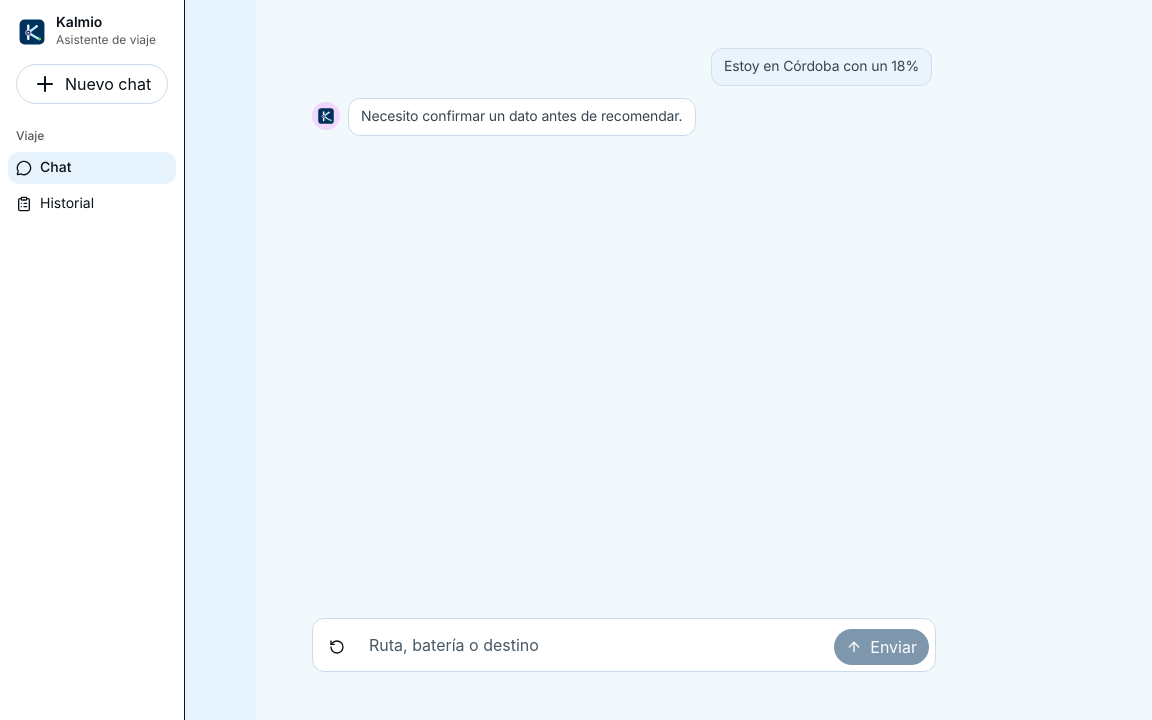
App › shows the right loader copy for respuesta rápida after 2000 ms
The width and height of the screenshot is (1152, 720).
Click the link with aria-label "Chat" at coordinates (86, 31), box [16,14,156,48]
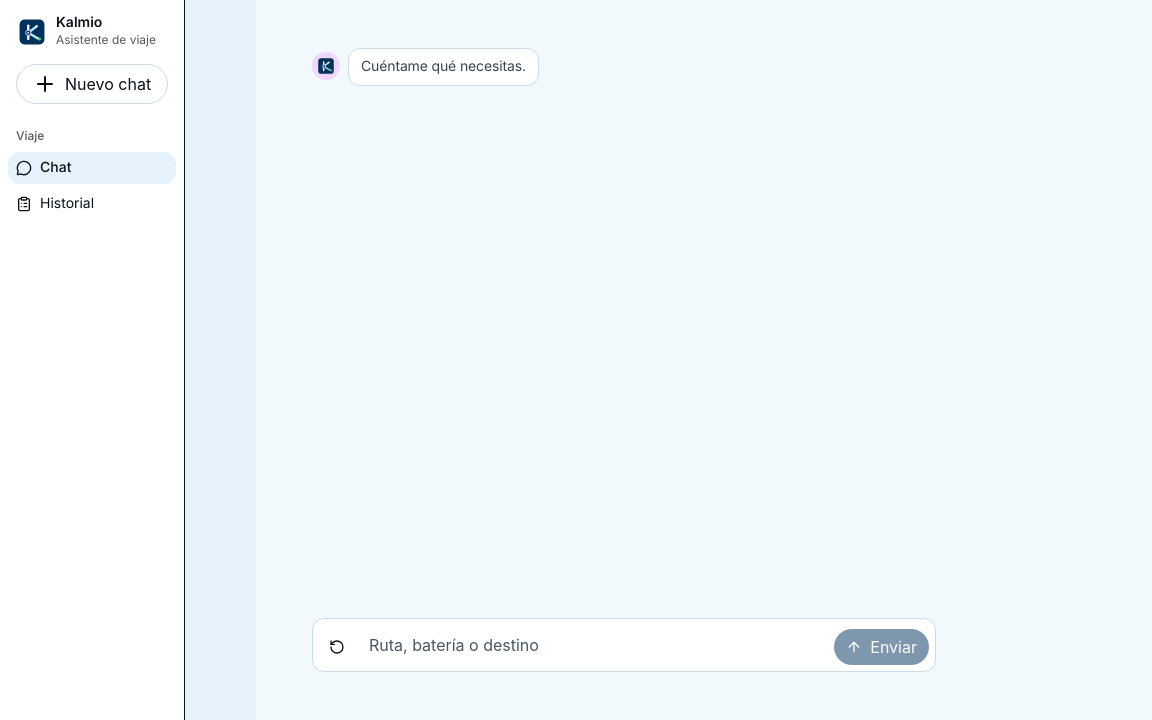
Now the text "Cuéntame qué necesitas." is shown, box [361,57,526,78]
Type "Estoy en Córdoba con un 18%" into the text box named "Mensaje para Kalmio" at coordinates (595, 645), box [361,625,828,665]
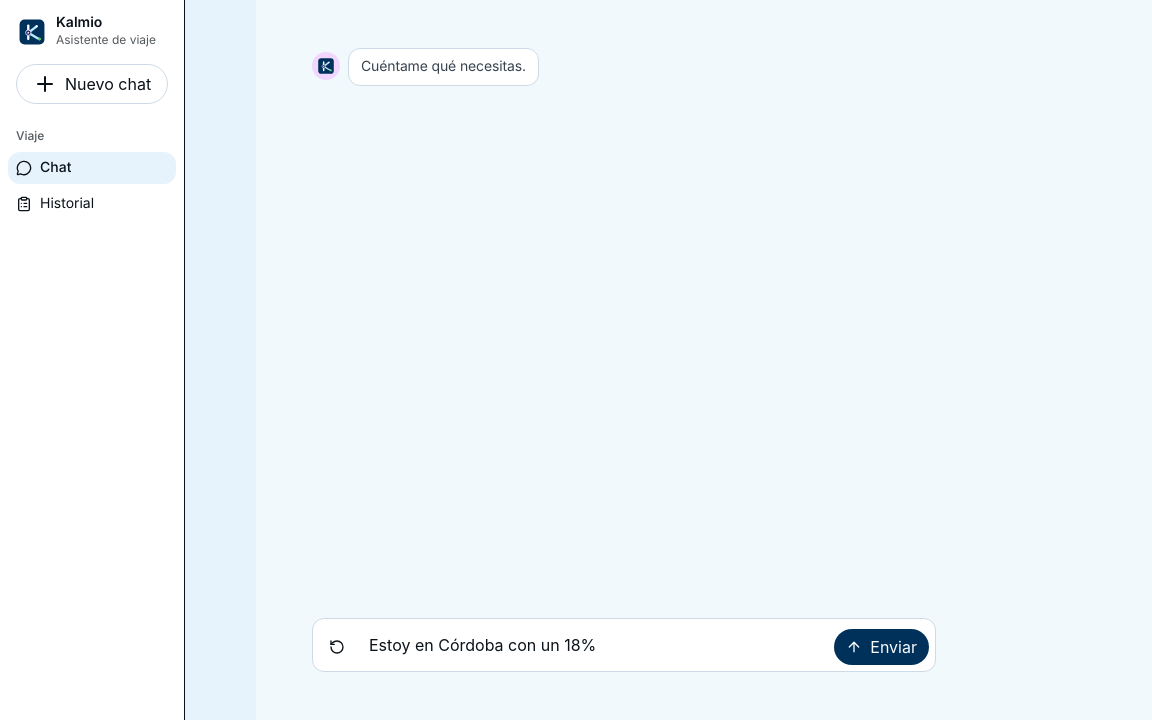
Click the button "Enviar" at coordinates (882, 647), box [834,629,929,665]
Wait 2000 ms
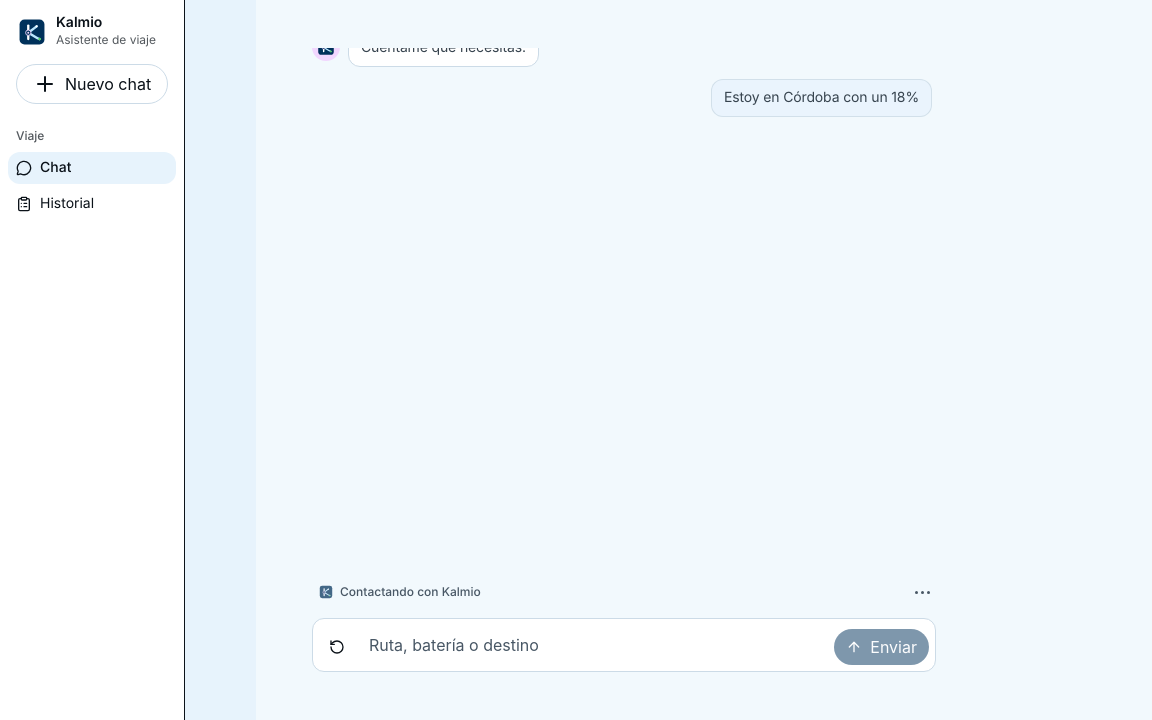
Now the text "Contactando con Kalmio" is shown, box [340,584,481,600]
